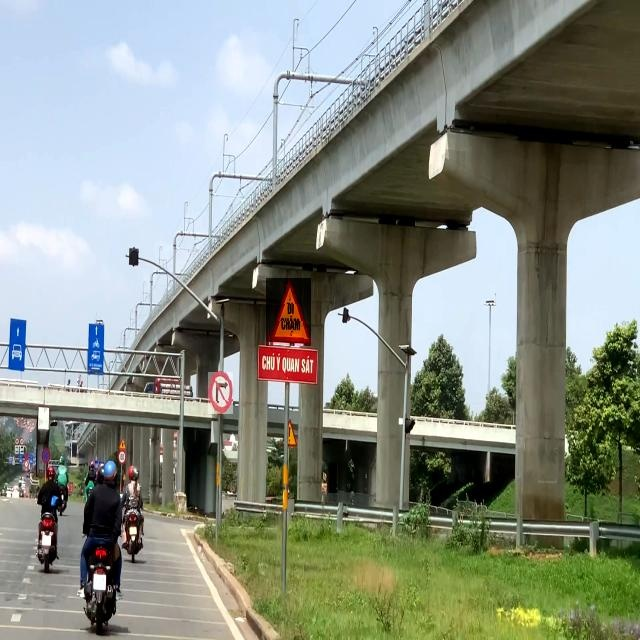bien_cam: (266, 278, 311, 346), (208, 372, 233, 414)
